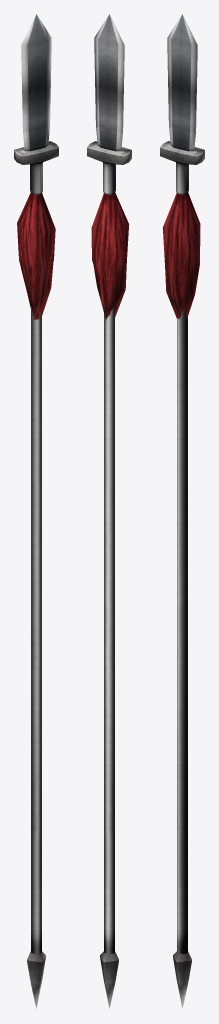
File: spear01.FBX
The picture shows the model from 3 angles, left to right: view 1: azimuth 30°, elevation 25°; view 2: azimuth 150°, elevation 25°; view 3: azimuth 330°, elevation 25°; orthographic projection.
Parts seen in each view (by area): view 1: Weapon1; view 2: Weapon1; view 3: Weapon1.
Boxes of the visible parts, box(x1,y1,x2,y2) form: Weapon1: box(14, 14, 58, 1009); Weapon1: box(87, 14, 131, 1009); Weapon1: box(160, 14, 204, 1009).
Size of the model in its own units: 9.96 by 8.81 by 240.
